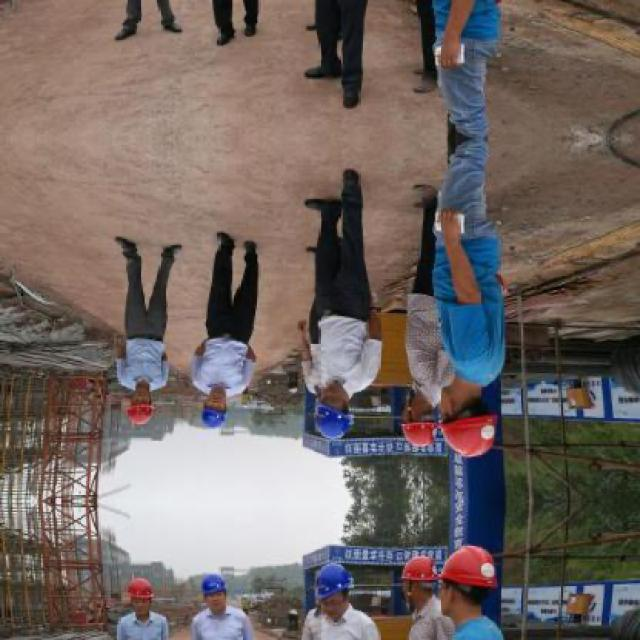con casco: (420, 380, 491, 462), (304, 389, 382, 445), (381, 410, 435, 464), (108, 388, 171, 427), (189, 386, 217, 437)
